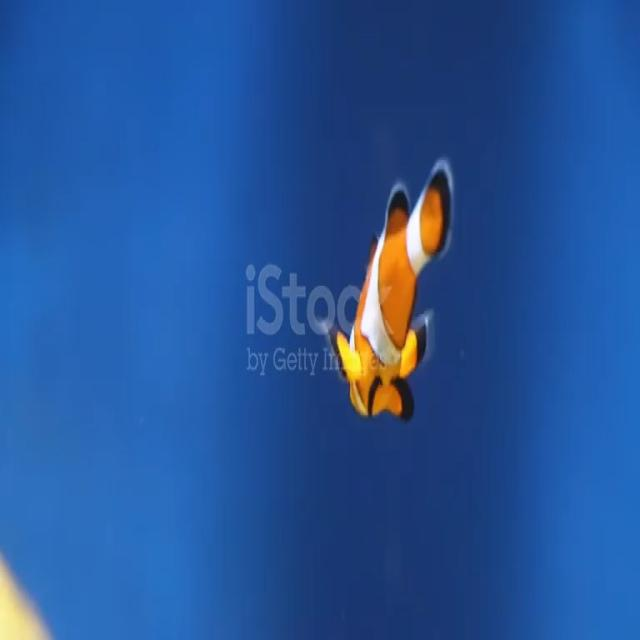fish: (329, 143, 452, 422)
